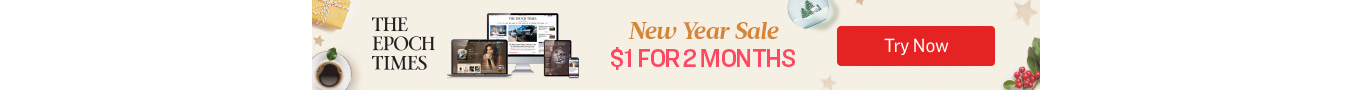fake_button: (827, 17, 1006, 77)
